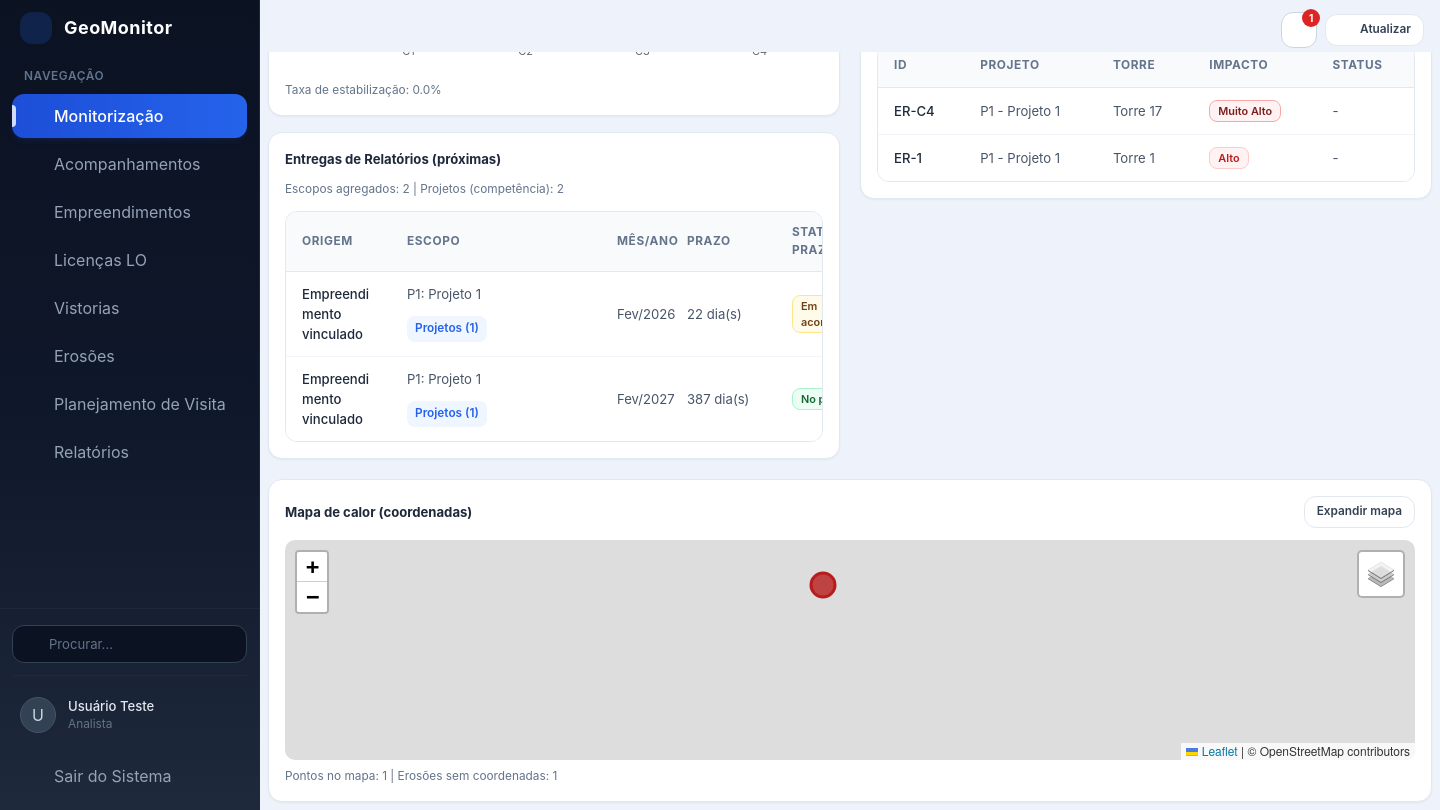
Test: DashboardView monitoring top notice › expands and collapses the heatmap card and invalidates map size
The width and height of the screenshot is (1440, 810).
(page scrolled)
Click the button "Expandir mapa" at (1359, 512), box 1304,496 -> 1415,528
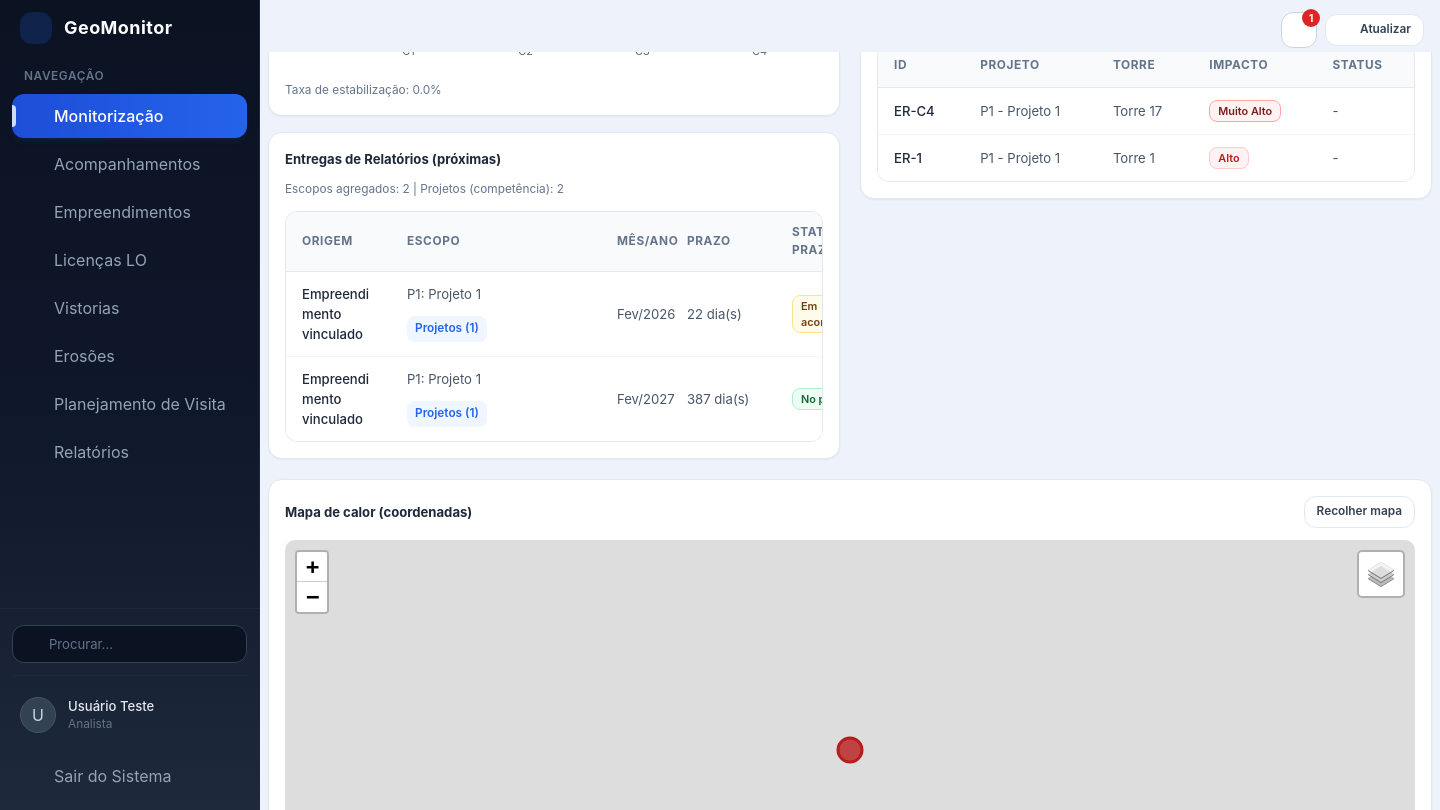
Check: the button "Recolher mapa" is shown
Check: the button "Recolher mapa" is expanded
Click the button "Recolher mapa" at (1359, 512), box 1304,496 -> 1415,528
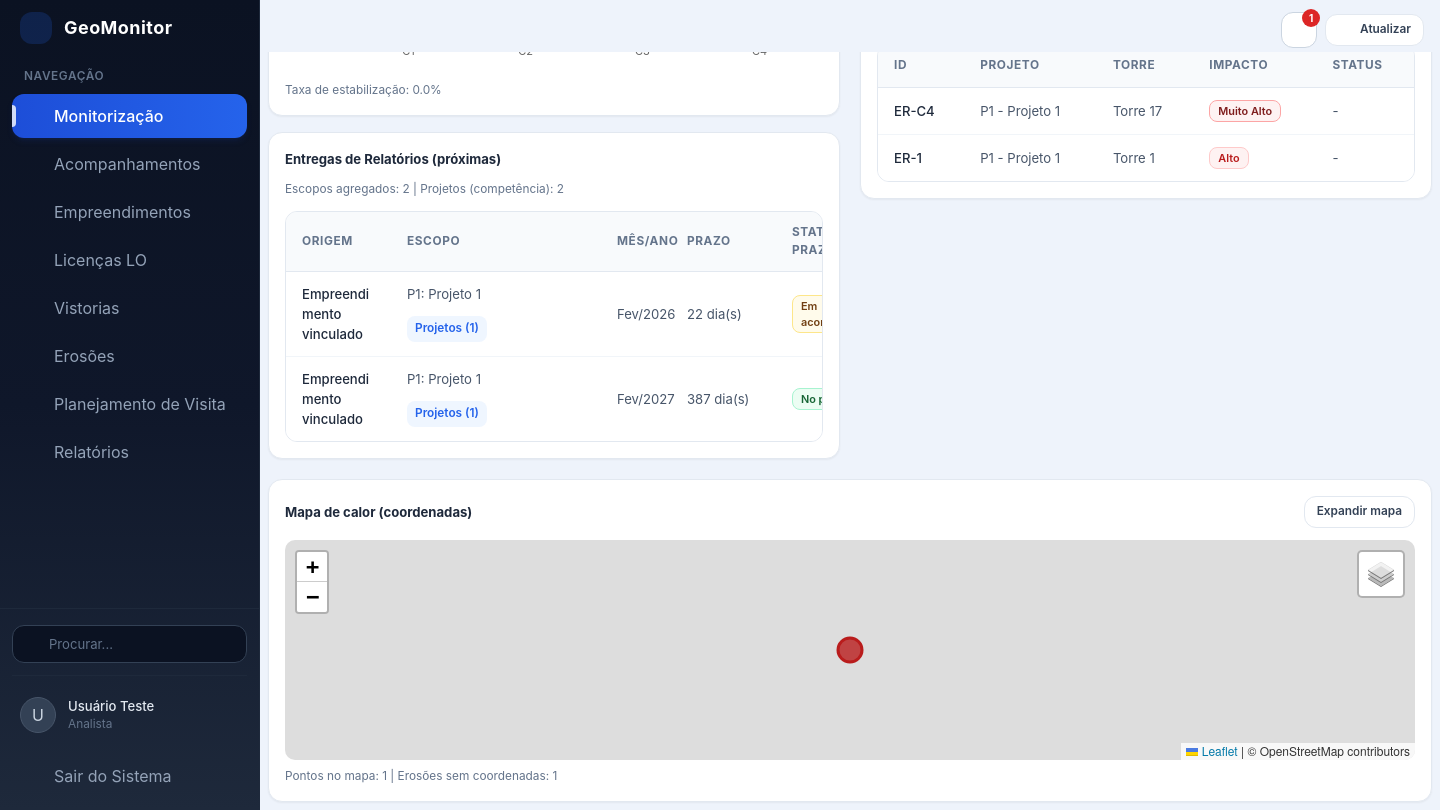
Check: the button "Expandir mapa" is shown, box 1304,496 -> 1415,528
Check: the button "Expandir mapa" is collapsed, box 1304,496 -> 1415,528
